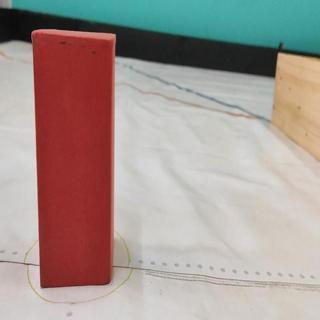redbox: (31, 28, 117, 290)
